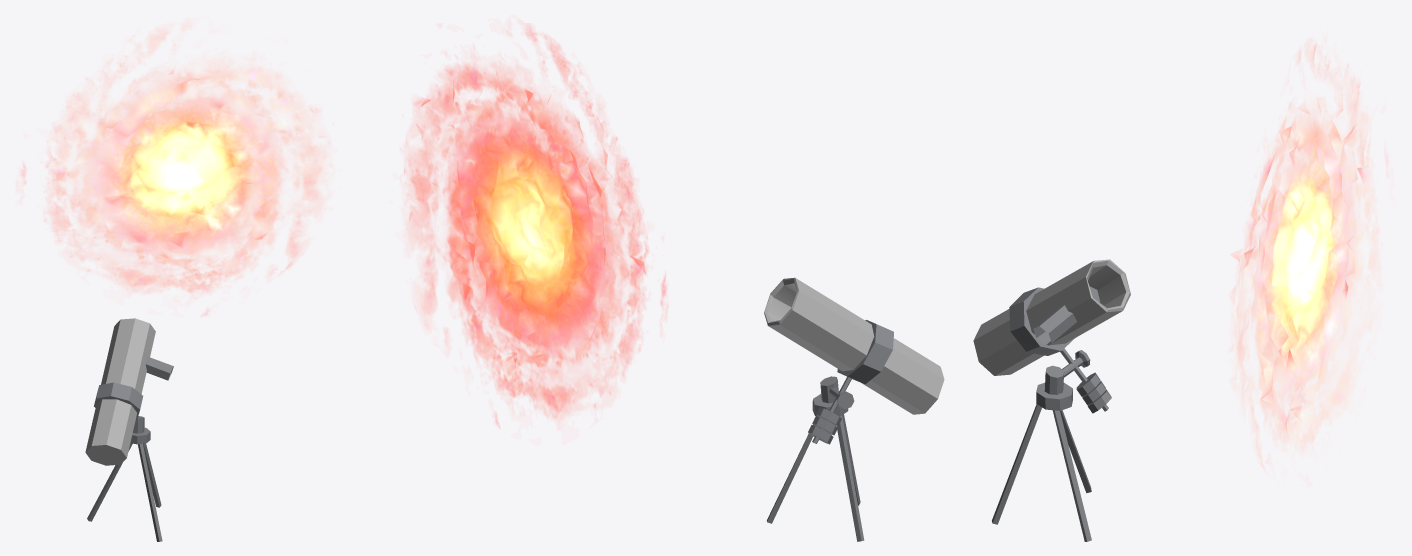
Rendered from telescopio.glb.
3 views of the same model, side by side, from view 1: azimuth 30°, elevation 25°; view 2: azimuth 150°, elevation 25°; view 3: azimuth 270°, elevation 25° (orthographic). The views are drawn at different scales.
Visible parts, largest first — view 1: Landscape.003, telescopio; view 2: Landscape.003, telescopio; view 3: Landscape.003, telescopio.
Boxes of the visible parts, <box> form: Landscape.003: <box>16,18,332,316</box>; telescopio: <box>85,318,173,541</box>; Landscape.003: <box>404,23,667,427</box>; telescopio: <box>764,277,944,541</box>; Landscape.003: <box>1228,38,1392,486</box>; telescopio: <box>973,259,1130,541</box>.
Bounding box in the file's own units: 19.79 × 22.84 × 15.24.
Materials: 3 (1 with a texture image).
